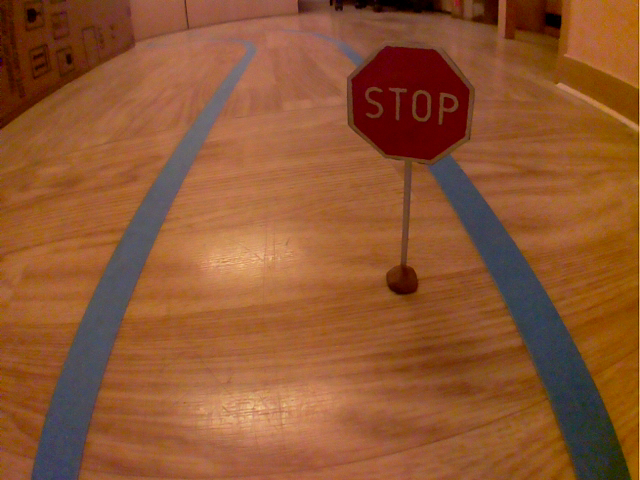Stop: (339, 37, 480, 171)
